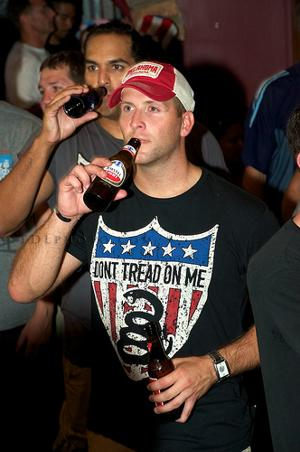person: (8, 61, 280, 452)
